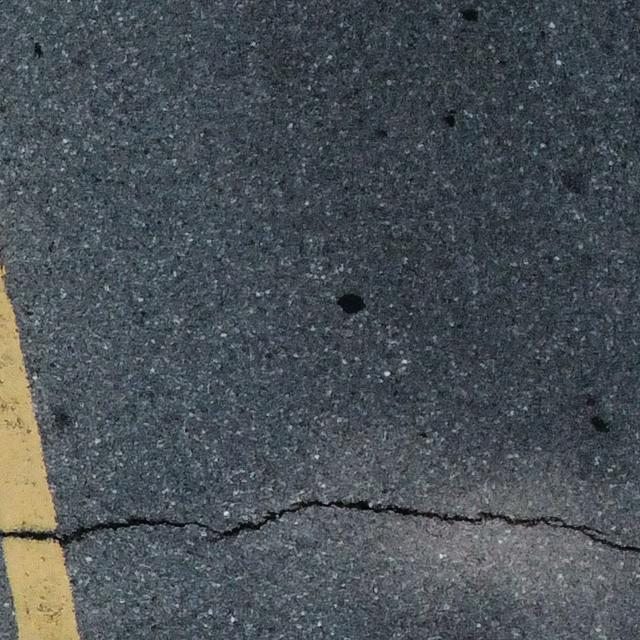TransverseCrack: (1, 499, 640, 552)
